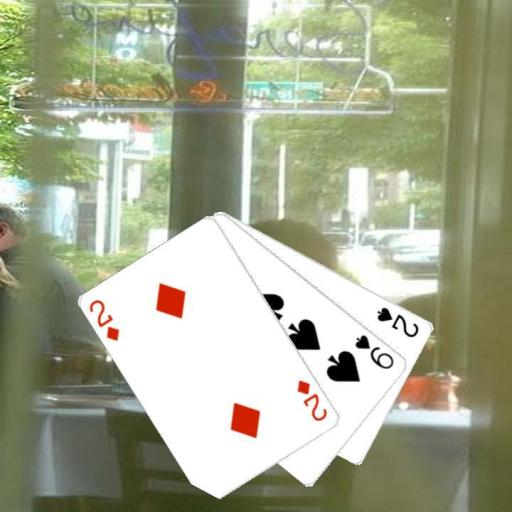2D: (86, 296, 122, 343), (294, 376, 329, 423)
2S: (374, 304, 421, 339)
9S: (352, 332, 396, 371)
